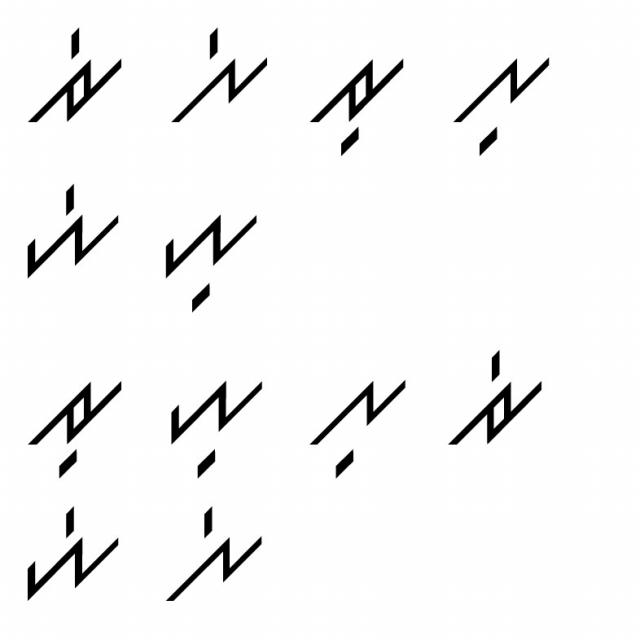le: (172, 26, 278, 130), (165, 505, 267, 608)
lu: (438, 46, 554, 160), (303, 369, 412, 484)
re: (19, 18, 126, 133), (444, 342, 547, 450)
ru: (20, 366, 127, 483), (308, 42, 411, 156)
ye: (11, 179, 127, 282), (12, 505, 122, 607)
yu: (145, 190, 269, 312), (160, 366, 274, 484)
